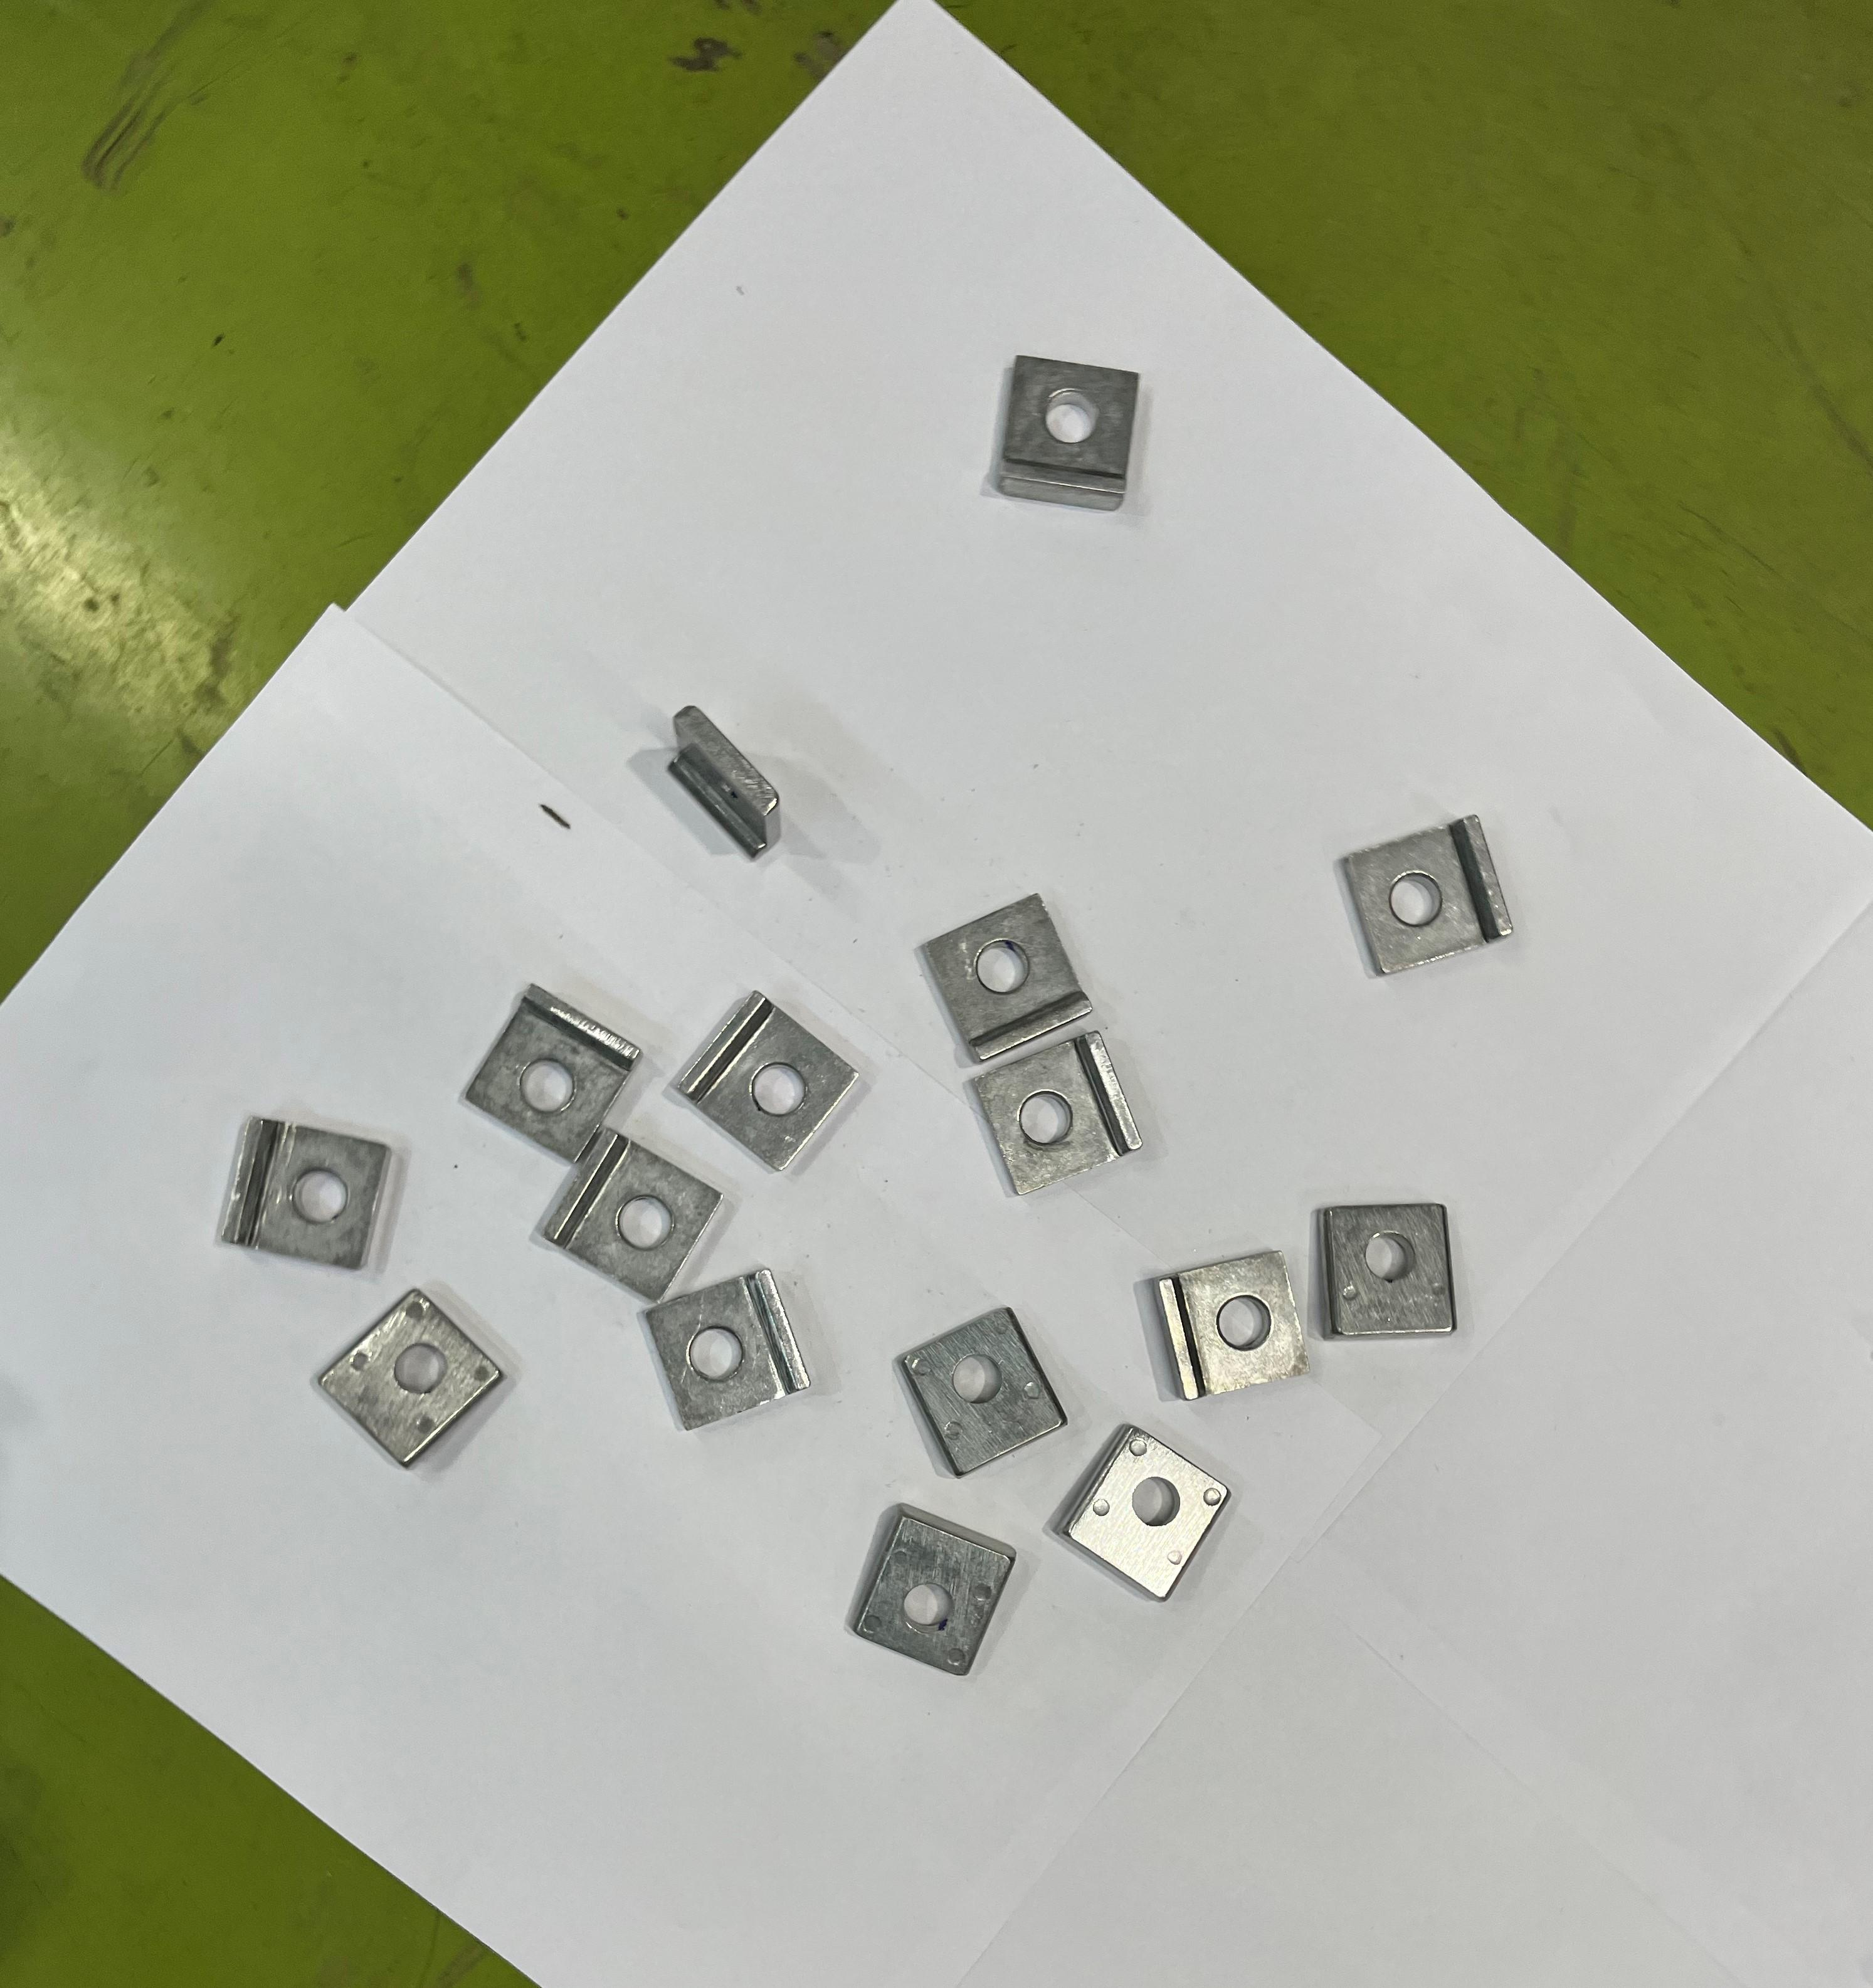Type A: (317, 1286, 502, 1467), (539, 1124, 723, 1302), (679, 989, 859, 1168), (466, 980, 641, 1161), (921, 887, 1097, 1061), (1058, 1427, 1230, 1601), (898, 1302, 1067, 1478), (848, 1508, 1016, 1678), (644, 1268, 812, 1436), (1345, 816, 1516, 980), (973, 1029, 1139, 1196), (227, 1114, 387, 1272), (1155, 1249, 1313, 1402), (998, 350, 1141, 515), (665, 702, 782, 866), (1322, 1202, 1458, 1339)
